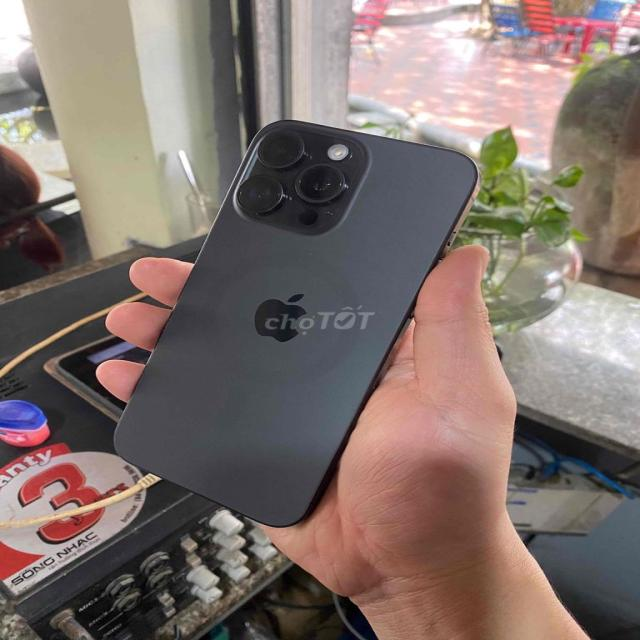gen_15: (95, 113, 491, 533)
